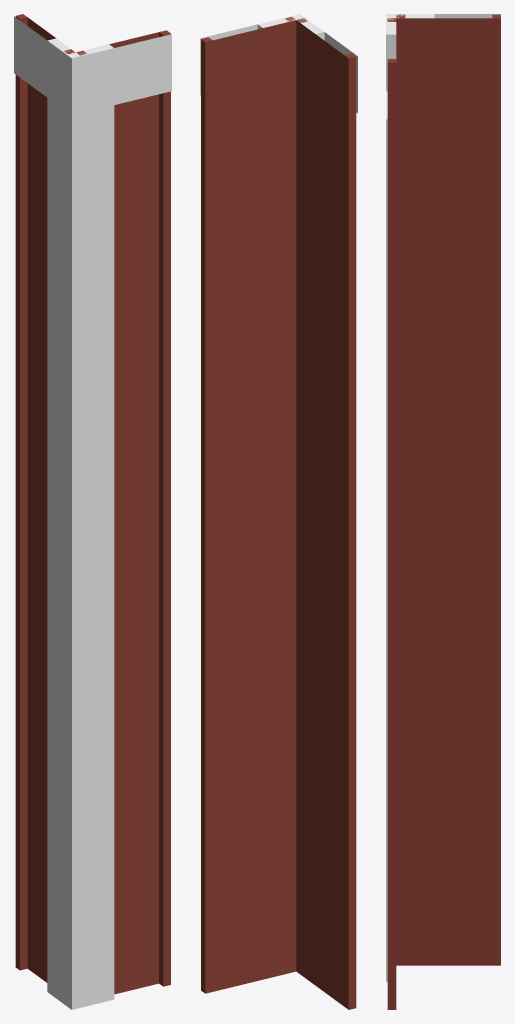
Rendered from mid-c1_close.fbx.
3 views of the same model, side by side, from view 1: azimuth 30°, elevation 25°; view 2: azimuth 210°, elevation 25°; view 3: azimuth 270°, elevation 25° (orthographic).
Visible parts, largest first — view 1: a2015/600/mid-c1_close; view 2: a2015/600/mid-c1_close; view 3: a2015/600/mid-c1_close.
Boxes of the visible parts, x1,y1,x2,y2 form: a2015/600/mid-c1_close: [14, 14, 171, 1009]; a2015/600/mid-c1_close: [200, 14, 357, 1009]; a2015/600/mid-c1_close: [386, 14, 500, 1009].
Bounding box in the file's own units: 0.33 × 3 × 0.33.
